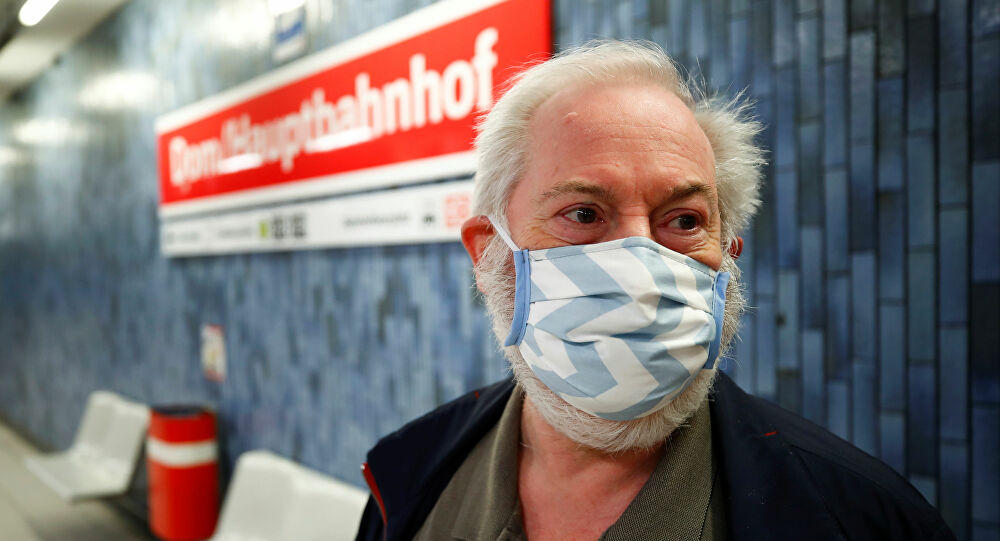with_mask: (500, 82, 753, 434)
